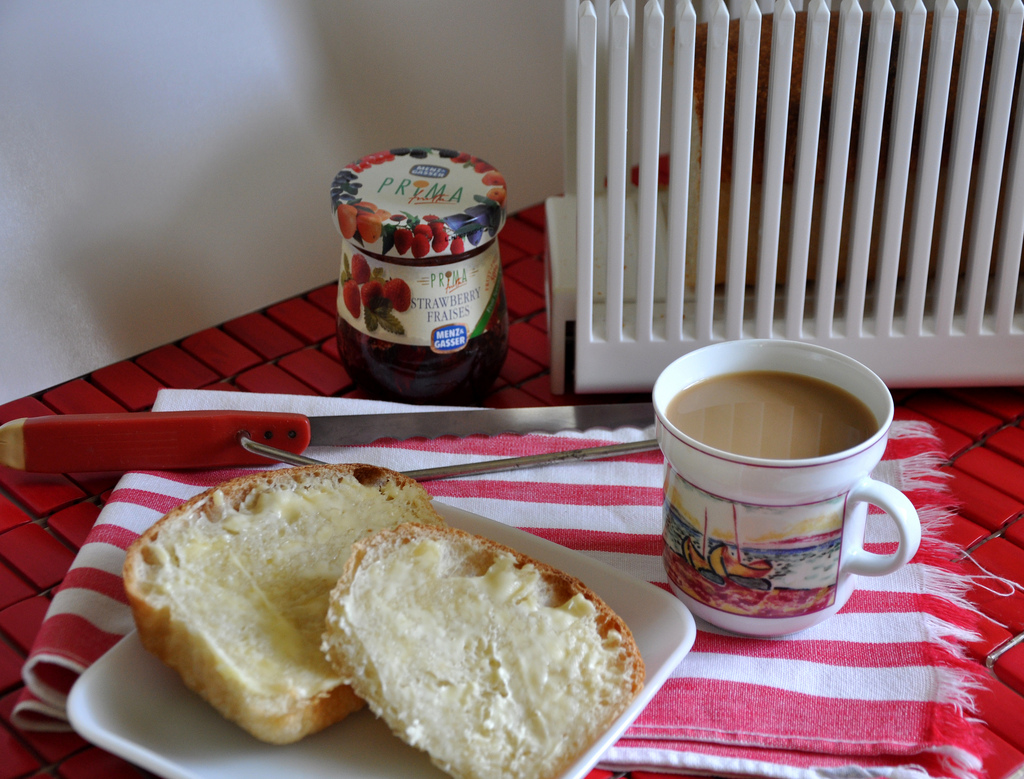slice of bread: (114, 463, 452, 746), (342, 520, 639, 779)
